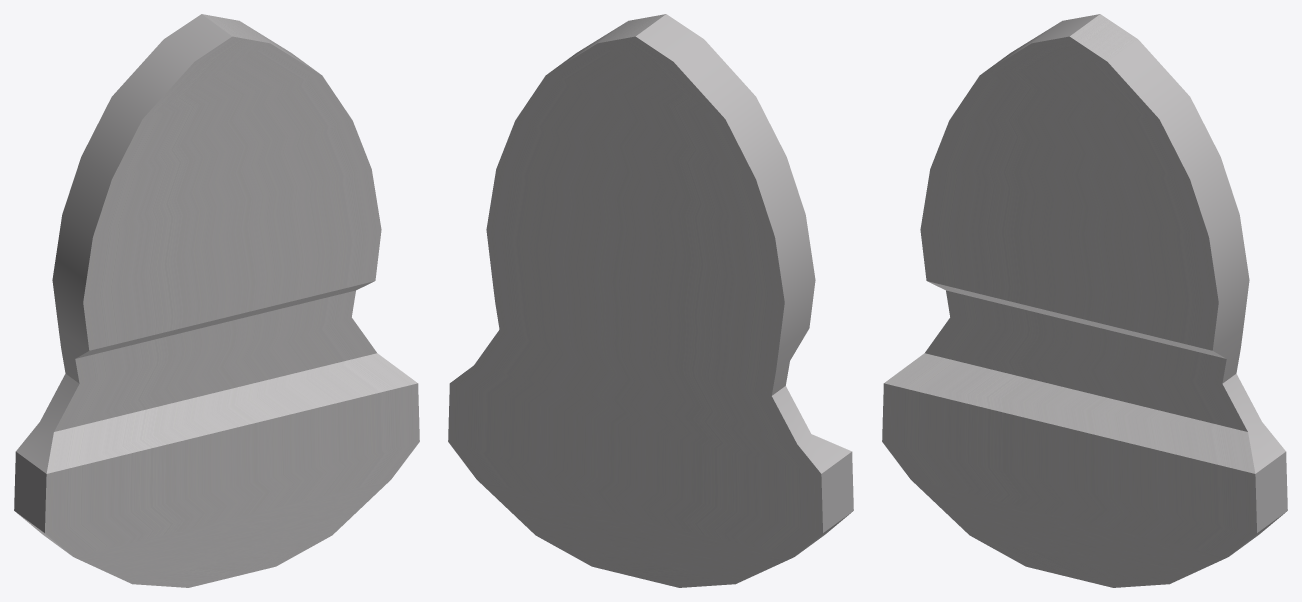
Rendered from ringUp.fbx.
3 renders of one model, left to right at view 1: azimuth 30°, elevation 25°; view 2: azimuth 150°, elevation 25°; view 3: azimuth 330°, elevation 25°, orthographic.
Parts seen in each view (by area): view 1: Cylinder.063; view 2: Cylinder.063; view 3: Cylinder.063.
Part boxes in pixels (<box>): Cylinder.063: <box>14,14,419,587</box>; Cylinder.063: <box>448,14,853,587</box>; Cylinder.063: <box>882,14,1287,587</box>.
Bounding box in the file's own units: 321 × 442 × 45.56.
Materials: 1 (1 with a texture image).
